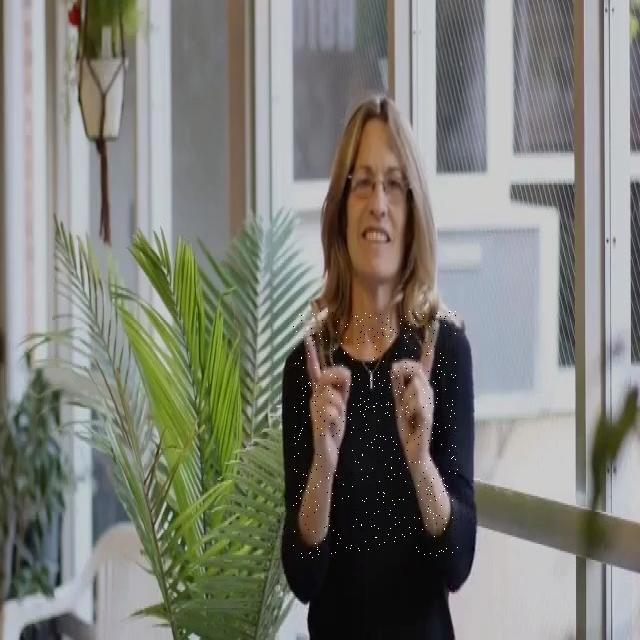sweet: (292, 311, 458, 558)
